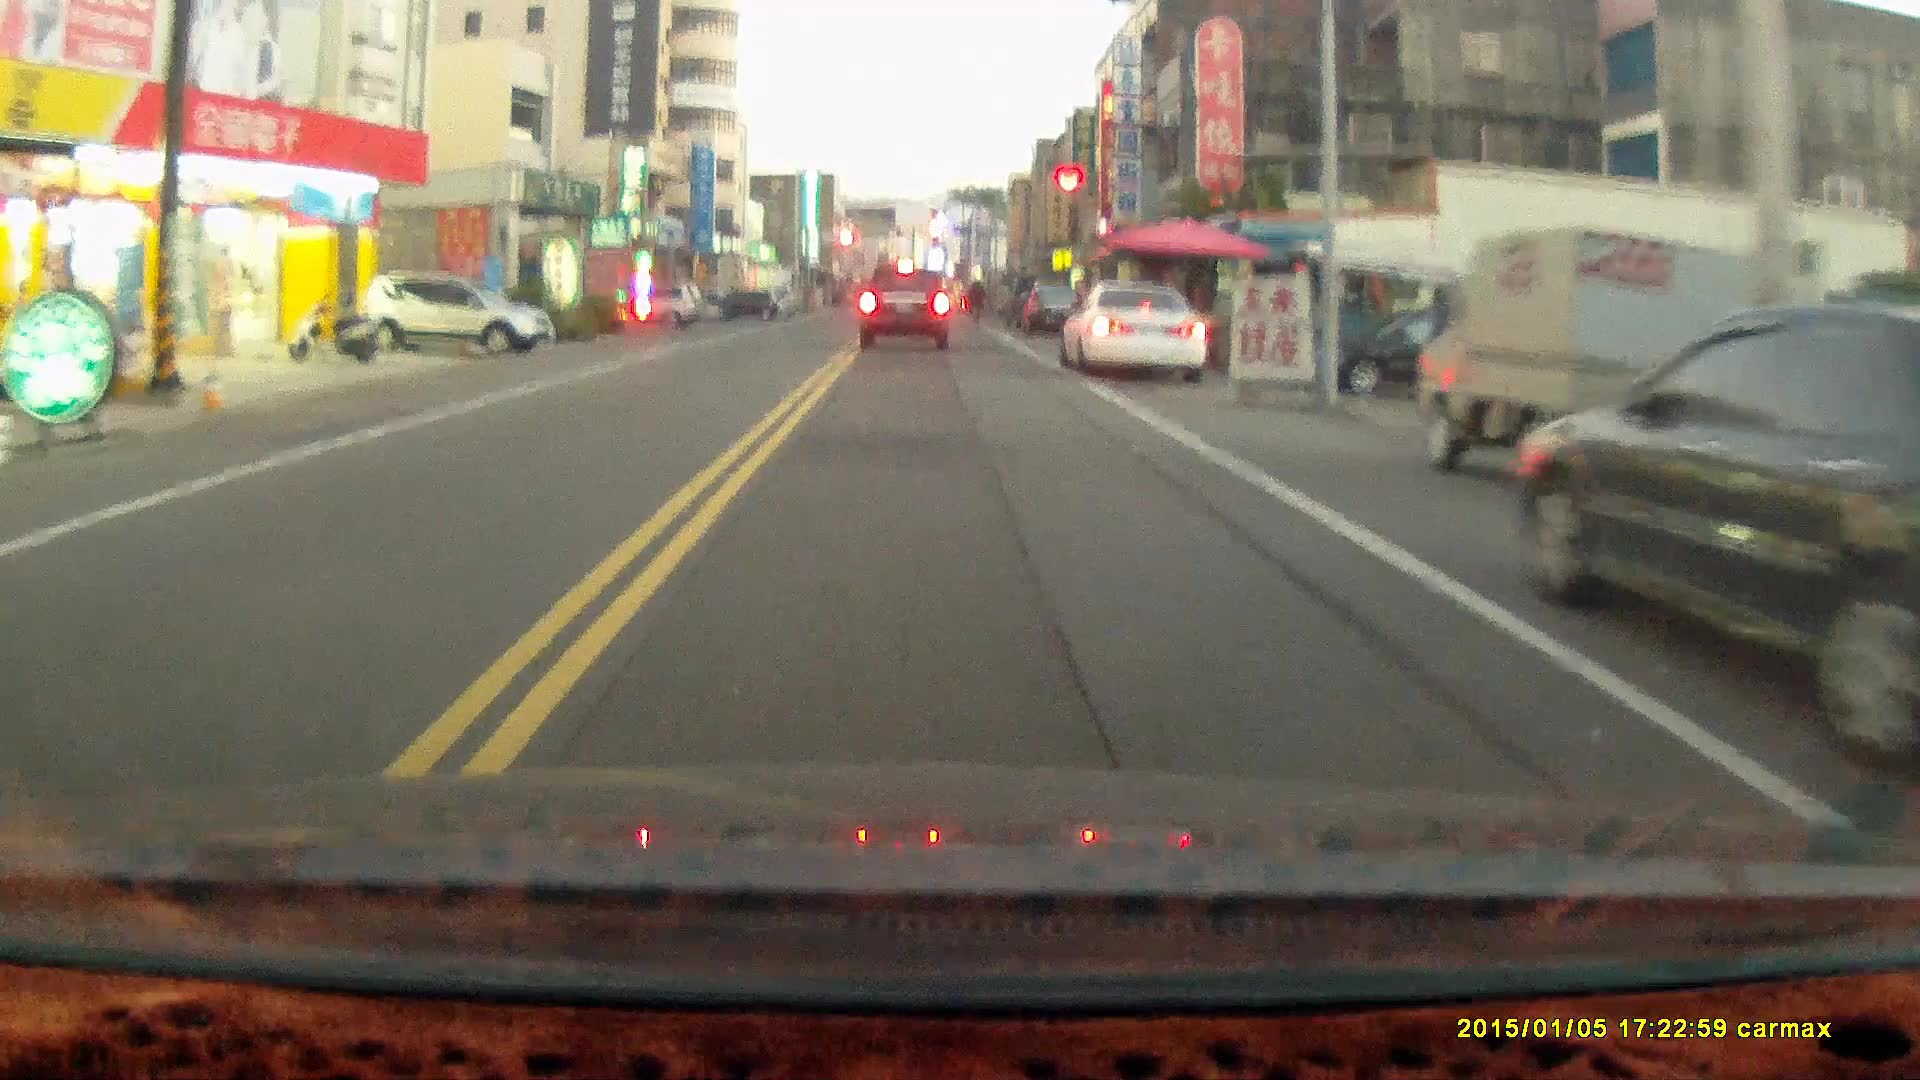vehicle: (1505, 299, 1920, 729), (1432, 233, 1767, 498), (1302, 301, 1571, 402), (351, 272, 549, 356), (1064, 280, 1209, 386), (855, 262, 953, 348)
